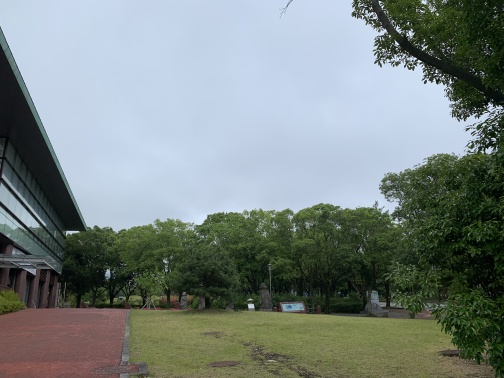Museum: (1, 22, 92, 327)
